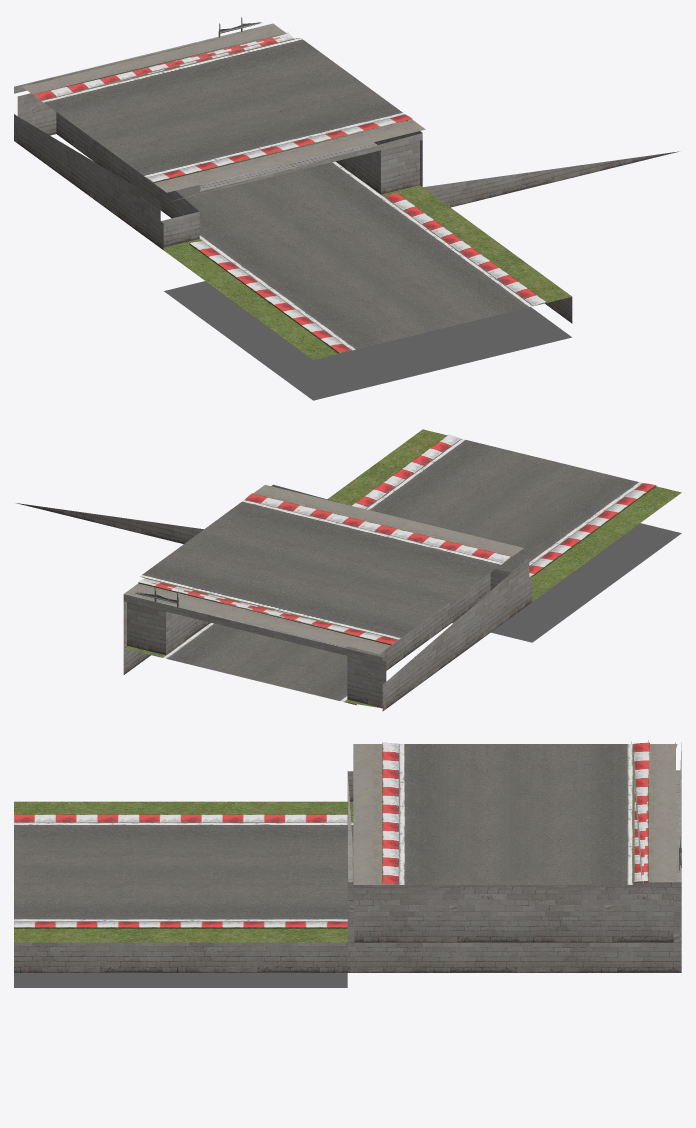
Rendered from map5.obj.
3 views of the same model, one above another, from view 1: azimuth 30°, elevation 25°; view 2: azimuth 150°, elevation 25°; view 3: azimuth 270°, elevation 25° (orthographic). The views are drawn at different scales.
Parts seen in each view (by area): view 1: map3.003; view 2: map3.003; view 3: map3.003.
Part boxes in pixels (<box>): map3.003: <box>14,17,679,400</box>; map3.003: <box>16,429,681,711</box>; map3.003: <box>14,740,681,987</box>.
Size of the model in its own units: 10.1 by 2.08 by 10.11.
Materials: 8 (7 with a texture image).
